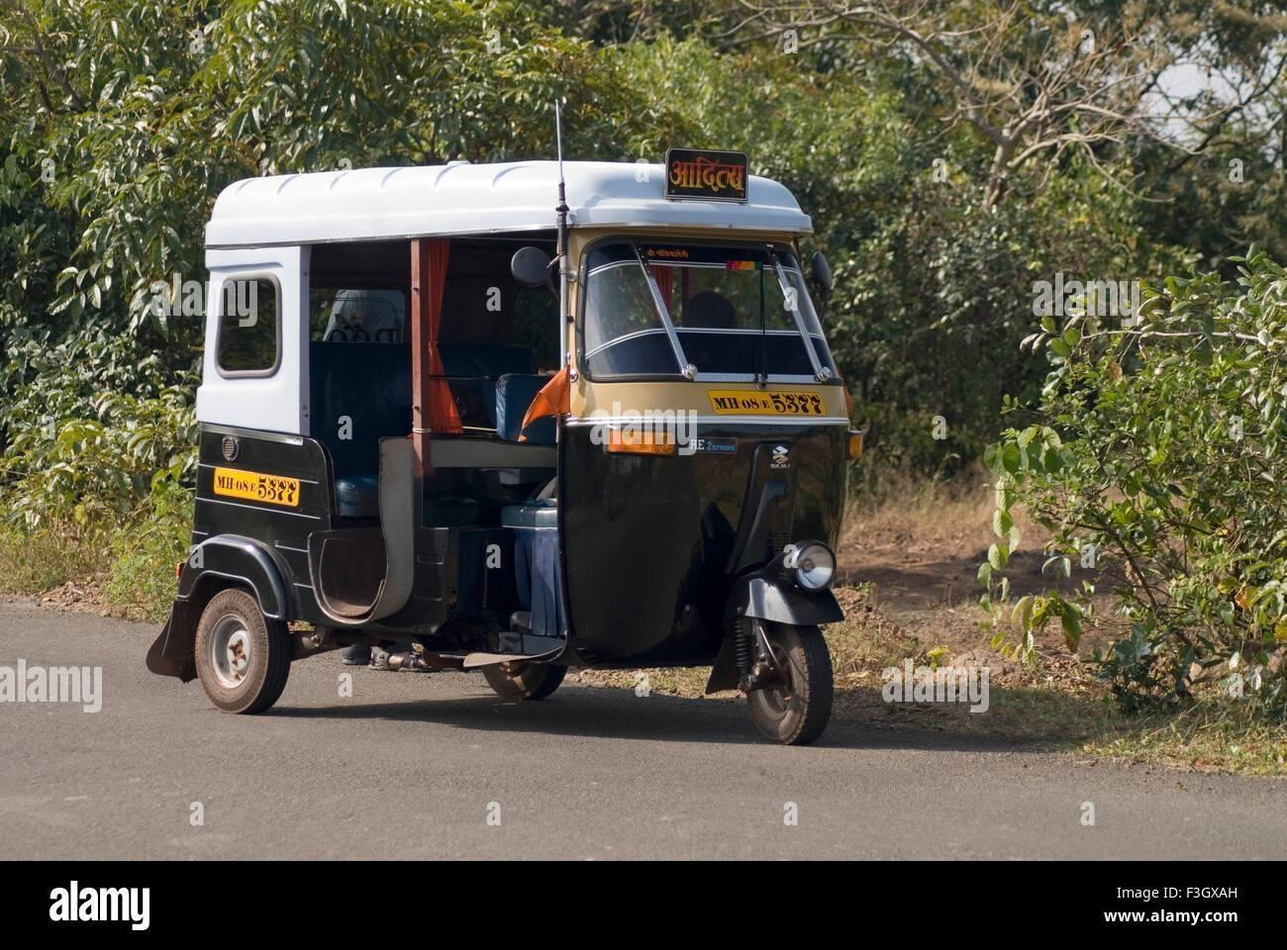keke: (175, 130, 864, 764)
